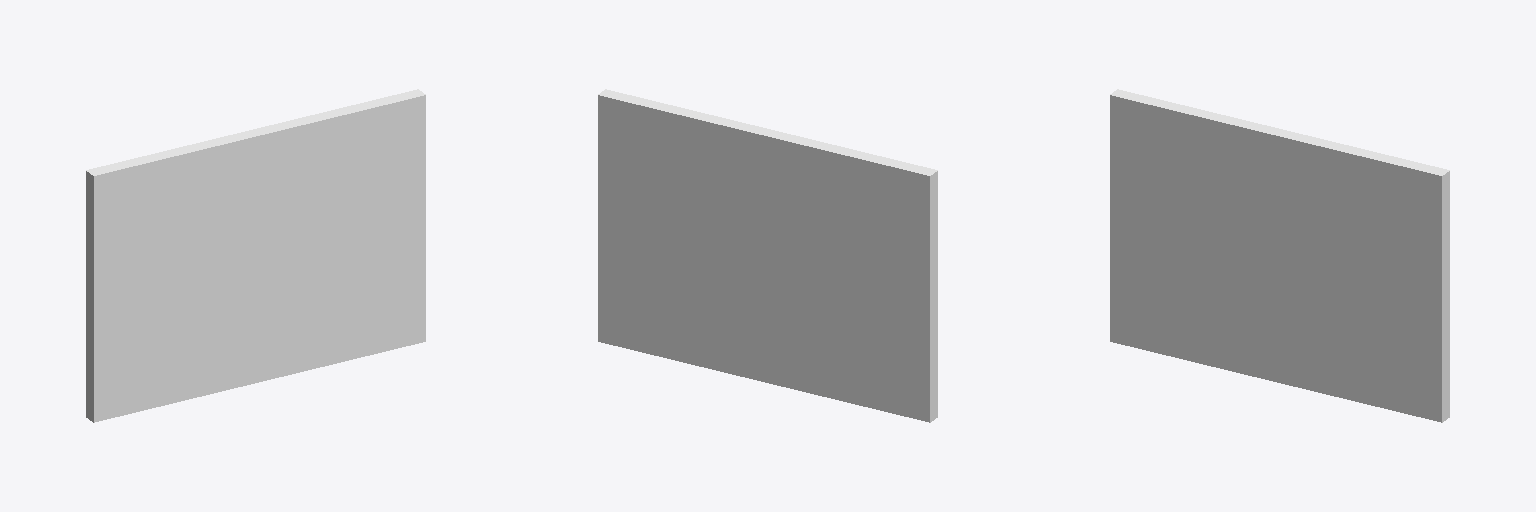
File: fullsky-4.obj
The picture shows the model from 3 angles: view 1: azimuth 30°, elevation 25°; view 2: azimuth 150°, elevation 25°; view 3: azimuth 330°, elevation 25°; orthographic projection.
Parts seen in each view (by area): view 1: object 1; view 2: object 1; view 3: object 1.
Part boxes in pixels (bbox=[...]): object 1: bbox=[86, 89, 425, 422]; object 1: bbox=[598, 89, 937, 422]; object 1: bbox=[1110, 89, 1449, 422].
Size of the model in its own units: 4.8 by 3.4 by 0.2.